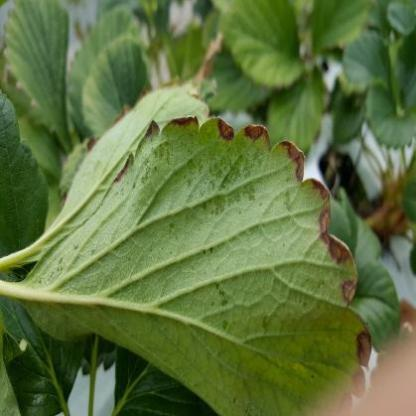Strawberry_Angular_LeafSpot: (20, 114, 372, 416)
